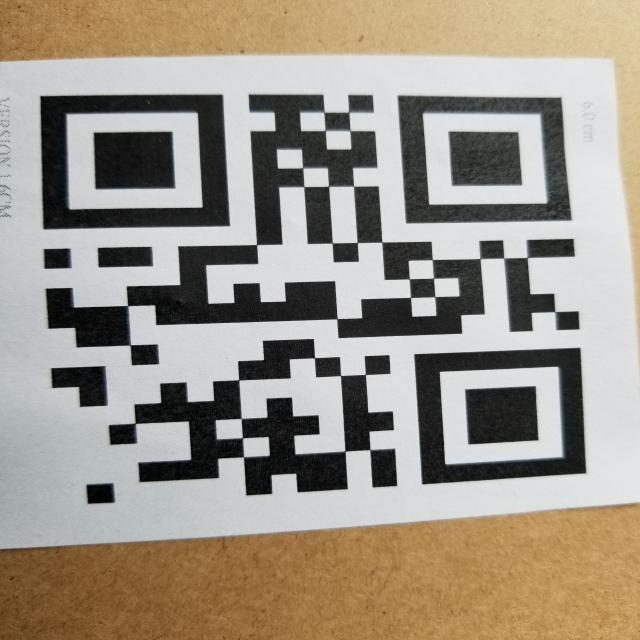QR_CODE: (20, 66, 607, 515)
